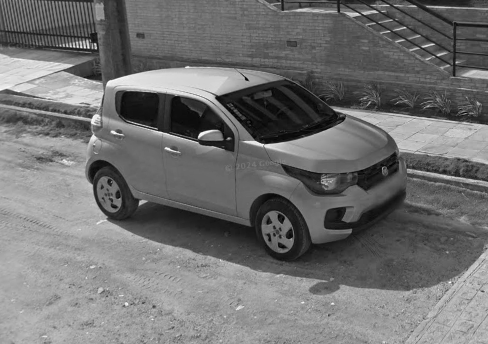car: (82, 62, 411, 264)
